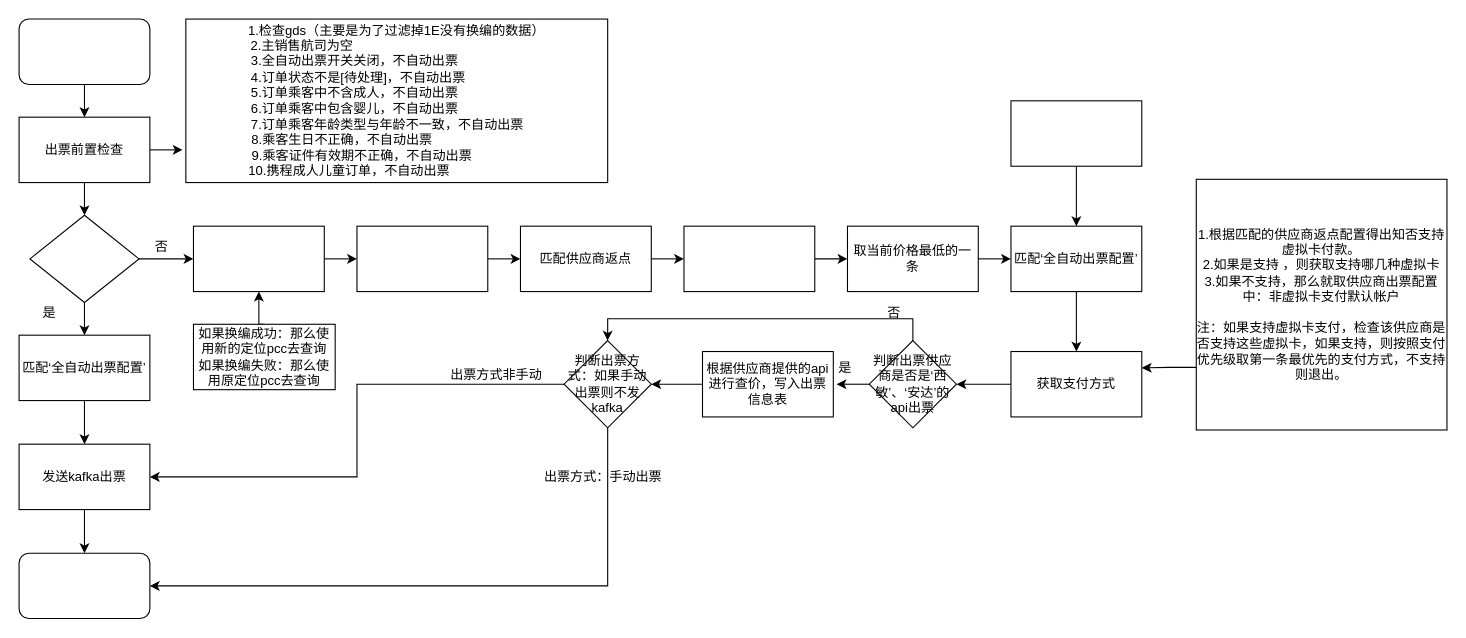
The diagram is 1466 pixels wide and 638 high, and some of its shapes have lost their labels. The centre of each missing label's shape, as x and y in pixels:
1.匹配出票gds 2.匹配出票pcc 3.匹配出票供应商: the point at 1076,133
根据查询的价格筛选不满足止损要求的数据: the point at 749,258
结束: the point at 84,585
轮询‘供应商出票配置’: the point at 422,258
通过定位pcc查询‘供应商出票配置’: the point at 258,258
预出票流程（只发送kafka，不是真正的出票）: the point at 84,51
验证是否是智能换编: the point at 84,258
